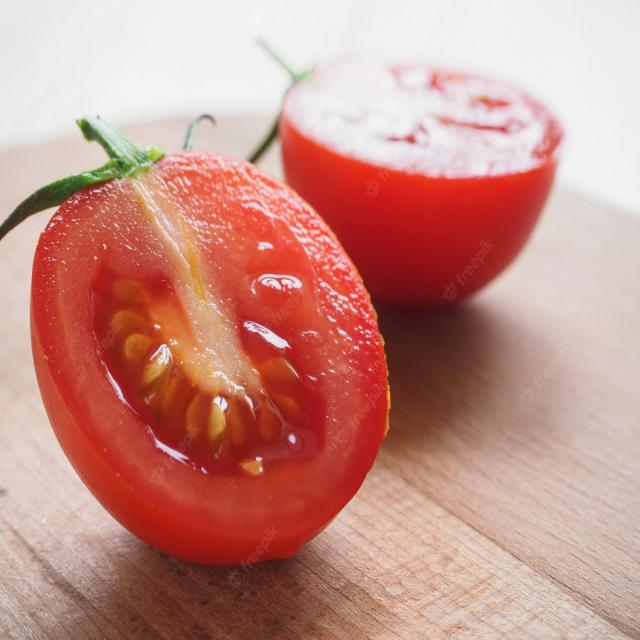Tomato: (29, 153, 392, 566), (283, 50, 559, 288)
